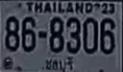0: (82, 17, 96, 53)
3: (66, 16, 80, 53)
6: (99, 17, 114, 53), (21, 16, 35, 51)
8: (49, 16, 63, 52), (4, 15, 18, 50)
CBI: (43, 56, 75, 72)
